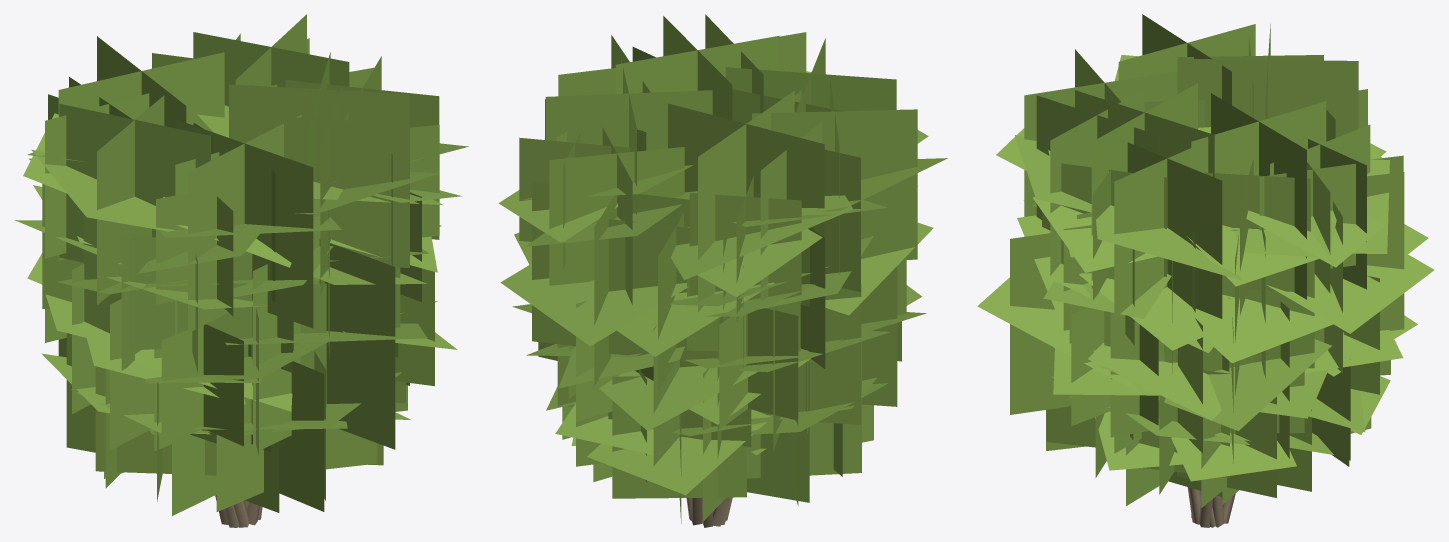
File: noisetier_4_f3_loin.glb
3 renders of one model, left to right at view 1: azimuth 30°, elevation 25°; view 2: azimuth 150°, elevation 25°; view 3: azimuth 270°, elevation 25°, orthographic. The views are drawn at different scales.
Visible parts, largest first — view 1: Noisetier_T4_f3_Leger_Loin; view 2: Noisetier_T4_f3_Leger_Loin; view 3: Noisetier_T4_f3_Leger_Loin.
Boxes of the visible parts, x1,y1,x2,y2 form: Noisetier_T4_f3_Leger_Loin: (14, 14, 468, 527); Noisetier_T4_f3_Leger_Loin: (498, 14, 947, 527); Noisetier_T4_f3_Leger_Loin: (977, 14, 1434, 527).
Size of the model in its own units: 6.32 by 6.93 by 6.69.
